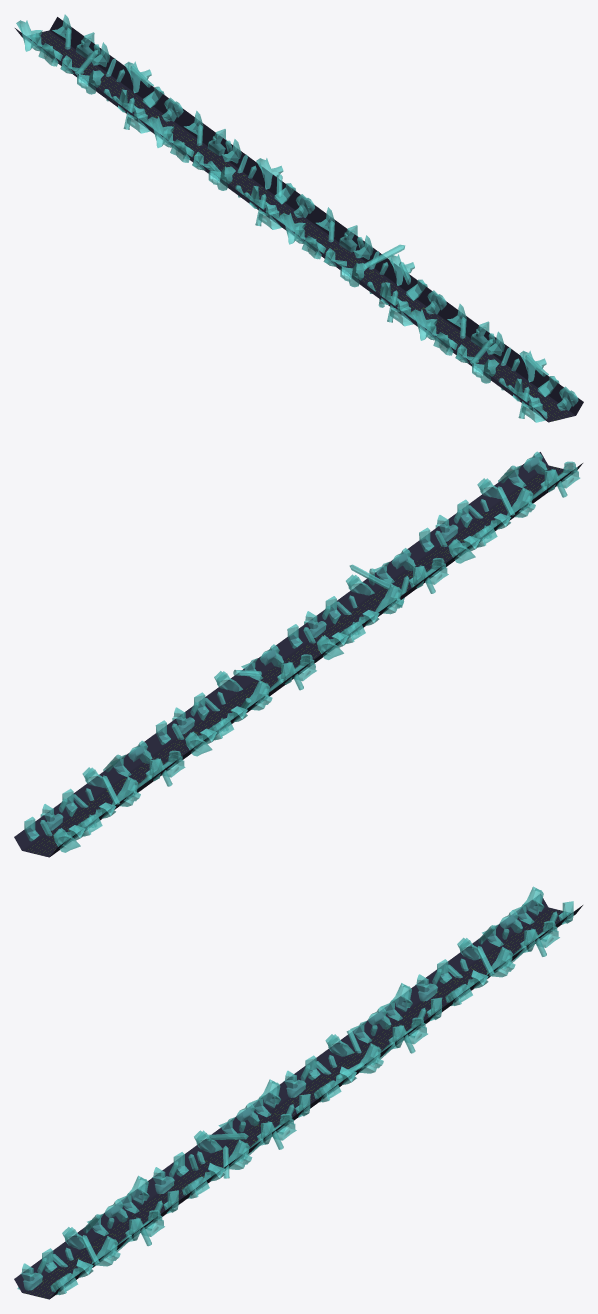
File: piste1.FBX
3 renders of one model, top to bottom at view 1: azimuth 30°, elevation 25°; view 2: azimuth 150°, elevation 25°; view 3: azimuth 330°, elevation 25°, orthographic.
Visible parts, largest first — view 1: Plan001, Plan010, Plan004, Plan007, Plan008, Plan005, Plan011, Plan002, Plan009, Plan003, Plan012, Plan006; view 2: Plan010, Plan004, Plan005, Plan011, Plan002, Plan001, Plan008, Plan007, Plan012, Plan006, Plan009, Plan003; view 3: Plan001, Plan010, Plan004, Plan007, Plan009, Plan006, Plan003, Plan012.
Boxes of the visible parts, x1,y1,x2,y2 form: Plan001: [422, 319, 575, 422]; Plan010: [27, 30, 180, 131]; Plan004: [291, 223, 443, 324]; Plan007: [159, 127, 311, 227]; Plan008: [181, 113, 320, 222]; Plan005: [313, 209, 451, 319]; Plan011: [49, 17, 188, 126]; Plan002: [444, 306, 583, 415]; Plan009: [146, 124, 284, 229]; Plan003: [409, 316, 547, 421]; Plan012: [15, 28, 152, 132]; Plan006: [278, 220, 416, 325]; Plan010: [22, 754, 175, 857]; Plan004: [285, 562, 438, 662]; Plan005: [277, 548, 416, 657]; Plan011: [14, 741, 153, 850]; Plan002: [409, 452, 548, 561]; Plan001: [417, 465, 570, 565]; Plan008: [146, 644, 284, 754]; Plan007: [154, 658, 306, 758]; Plan012: [50, 751, 188, 856]; Plan006: [314, 559, 451, 663]; Plan009: [182, 655, 319, 759]; Plan003: [446, 463, 582, 566]; Plan001: [22, 1196, 175, 1299]; Plan010: [417, 907, 570, 1008]; Plan004: [154, 1100, 306, 1201]; Plan007: [285, 1004, 438, 1104]; Plan009: [278, 991, 416, 1099]; Plan006: [146, 1087, 284, 1196]; Plan003: [14, 1183, 153, 1292]; Plan012: [409, 894, 548, 1003].
Bounding box in the file's own units: 1182 × 766 × 16517.
